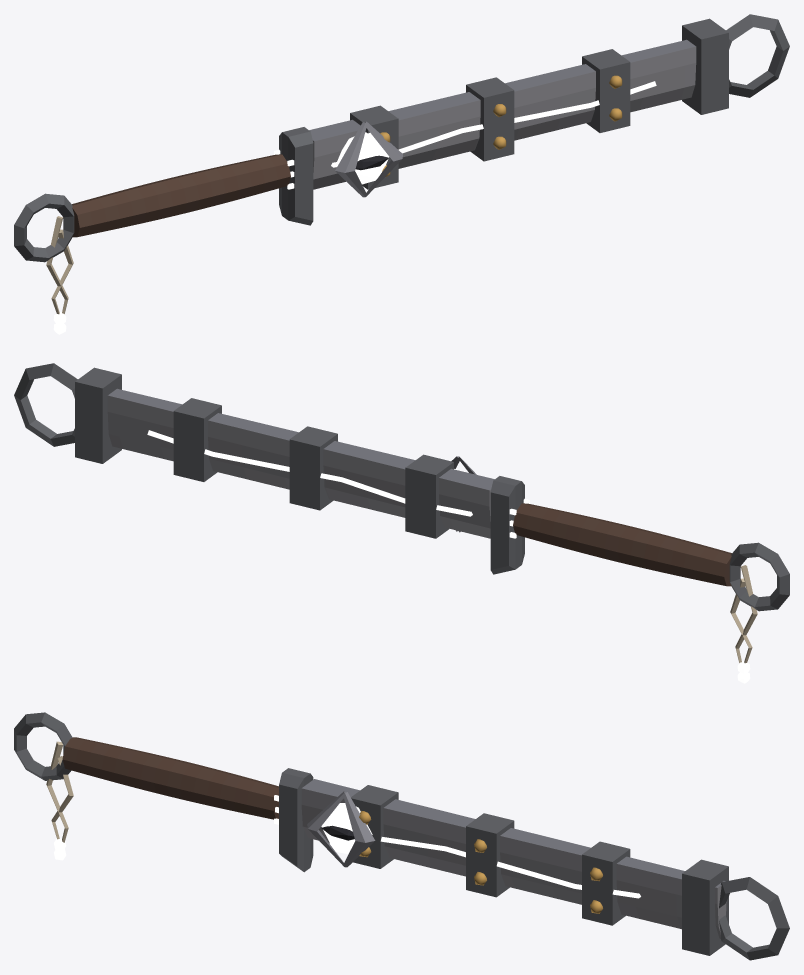
File: blade-bar.glb
3 renders of one model, top to bottom at view 1: azimuth 30°, elevation 25°; view 2: azimuth 150°, elevation 25°; view 3: azimuth 330°, elevation 25°, orthographic.
Parts seen in each view (by area): view 1: blade-bar, blink_eye, pulse_vein, sway_sinewb; view 2: blade-bar, pulse_vein, sway_sinewb; view 3: blade-bar, blink_eye, pulse_vein, sway_sinewb, sway_sinewa.
Boxes of the visible parts, bbox=[...] form: blade-bar: bbox=[14, 14, 789, 262]; blink_eye: bbox=[335, 121, 402, 197]; pulse_vein: bbox=[331, 81, 656, 167]; sway_sinewb: bbox=[46, 216, 68, 334]; blade-bar: bbox=[14, 363, 789, 611]; pulse_vein: bbox=[147, 430, 472, 516]; sway_sinewb: bbox=[735, 565, 757, 683]; blade-bar: bbox=[14, 712, 789, 960]; blink_eye: bbox=[307, 791, 375, 867]; pulse_vein: bbox=[380, 837, 640, 898]; sway_sinewb: bbox=[46, 741, 68, 860]; sway_sinewa: bbox=[51, 756, 73, 850].
Size of the model in its own units: 1.4 by 0.2602 by 0.09.
